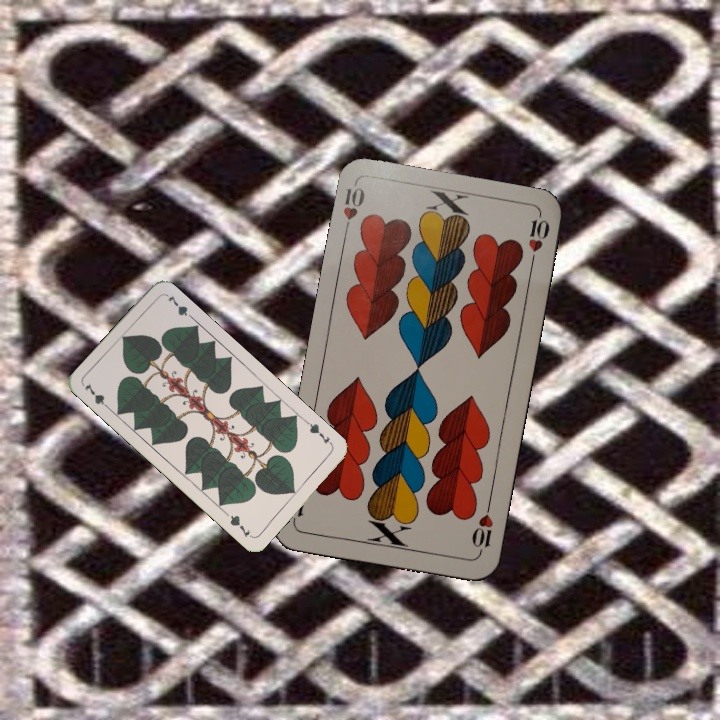G7: (80, 379, 114, 413), (302, 418, 335, 449)
H10: (339, 180, 368, 238), (468, 499, 496, 558)
